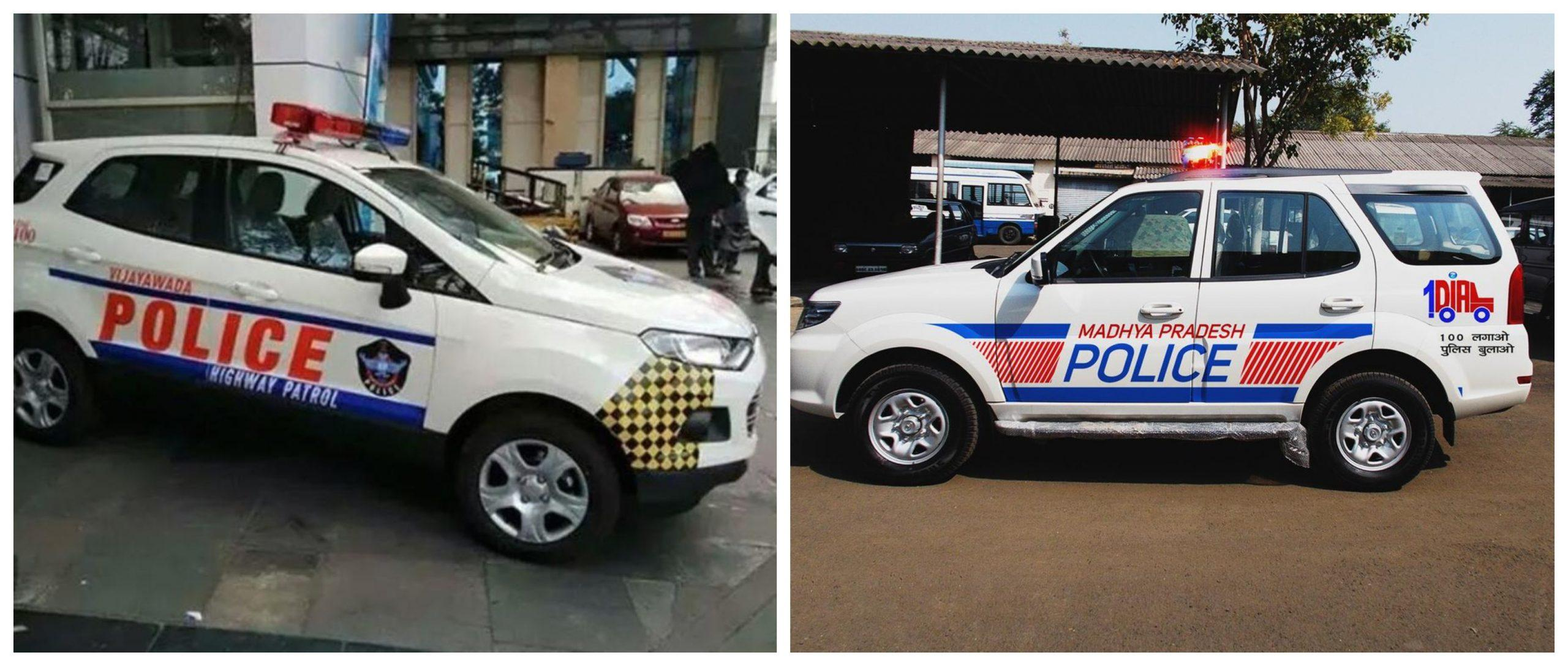Emergency-Vehicles: (0, 152, 736, 513), (795, 152, 1537, 469)
